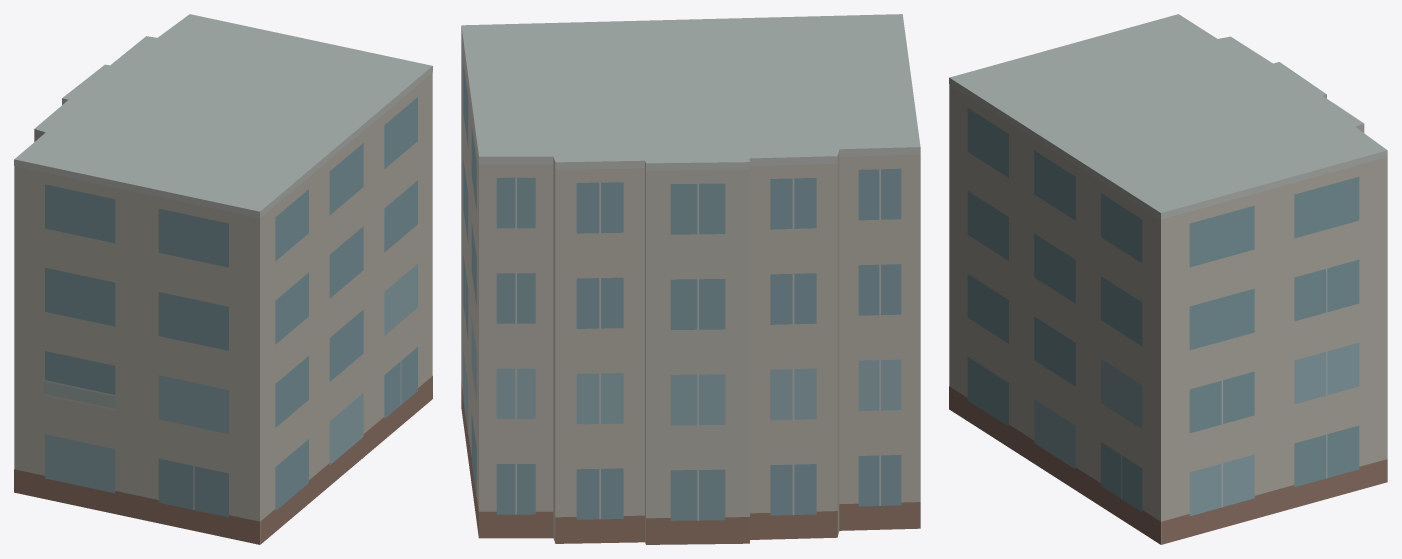
Rendered from survey-upis-32624863.glb.
3 views of the same model, side by side, from view 1: azimuth 30°, elevation 25°; view 2: azimuth 150°, elevation 25°; view 3: azimuth 270°, elevation 25° (orthographic). The views are drawn at different scales.
Visible parts, largest first — view 1: survey-upis-32624863.tmp; view 2: survey-upis-32624863.tmp; view 3: survey-upis-32624863.tmp.
Part boxes in pixels (x1,y1,x2,y2): survey-upis-32624863.tmp: (14, 14, 432, 544); survey-upis-32624863.tmp: (461, 14, 920, 544); survey-upis-32624863.tmp: (949, 14, 1387, 544).
Size of the model in its own units: 15.84 by 12.3 by 14.74.
